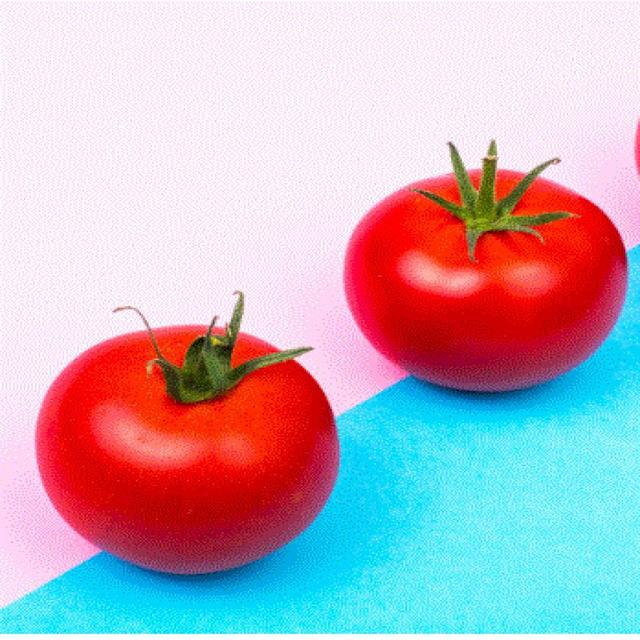Healthy Fruit: (131, 150, 327, 301)
